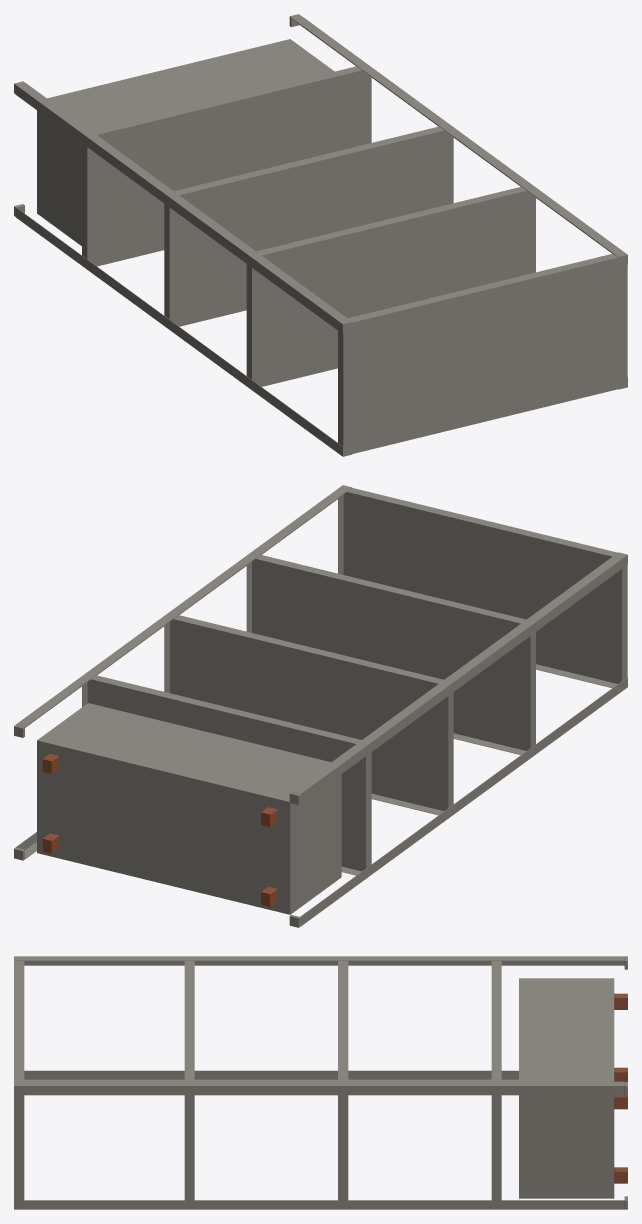
File: Storage__ManualShelfSouth6.glb
3 renders of one model, top to bottom at view 1: azimuth 30°, elevation 25°; view 2: azimuth 150°, elevation 25°; view 3: azimuth 270°, elevation 25°, orthographic. The views are drawn at different scales.
Visible parts, largest first — view 1: /World/Storage/ManualShelfSouth6/Visual/metal_shelving_rollo, /World/Storage/ManualShelfSouth6/Visual; view 2: /World/Storage/ManualShelfSouth6/Visual/metal_shelving_rollo (×2), /World/Storage/ManualShelfSouth6/Visual; view 3: /World/Storage/ManualShelfSouth6/Visual/metal_shelving_rollo (×2), /World/Storage/ManualShelfSouth6/Visual.
Part boxes in pixels (x1=…): /World/Storage/ManualShelfSouth6/Visual/metal_shelving_rollo: x1=15, y1=15, x2=627, y2=456; /World/Storage/ManualShelfSouth6/Visual: x1=14, y1=14, x2=334, y2=245; /World/Storage/ManualShelfSouth6/Visual/metal_shelving_rollo (×2): x1=15, y1=485, x2=627, y2=926; /World/Storage/ManualShelfSouth6/Visual: x1=14, y1=703, x2=341, y2=927; /World/Storage/ManualShelfSouth6/Visual/metal_shelving_rollo (×2): x1=14, y1=956, x2=627, y2=1209; /World/Storage/ManualShelfSouth6/Visual: x1=519, y1=956, x2=627, y2=1209.
Bounding box in the file's own units: 0.9 × 0.406 × 1.8.
